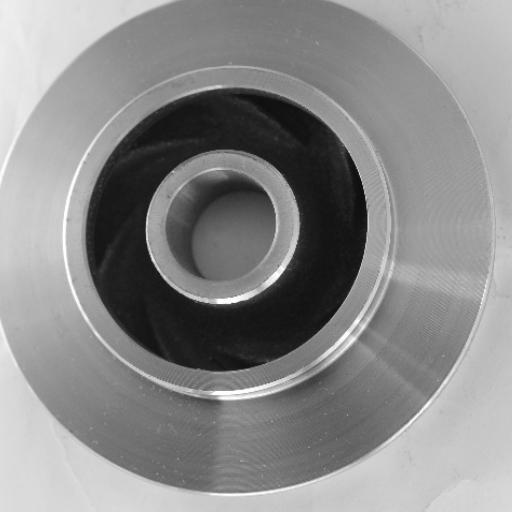polished_casting: (2, 0, 495, 496)
